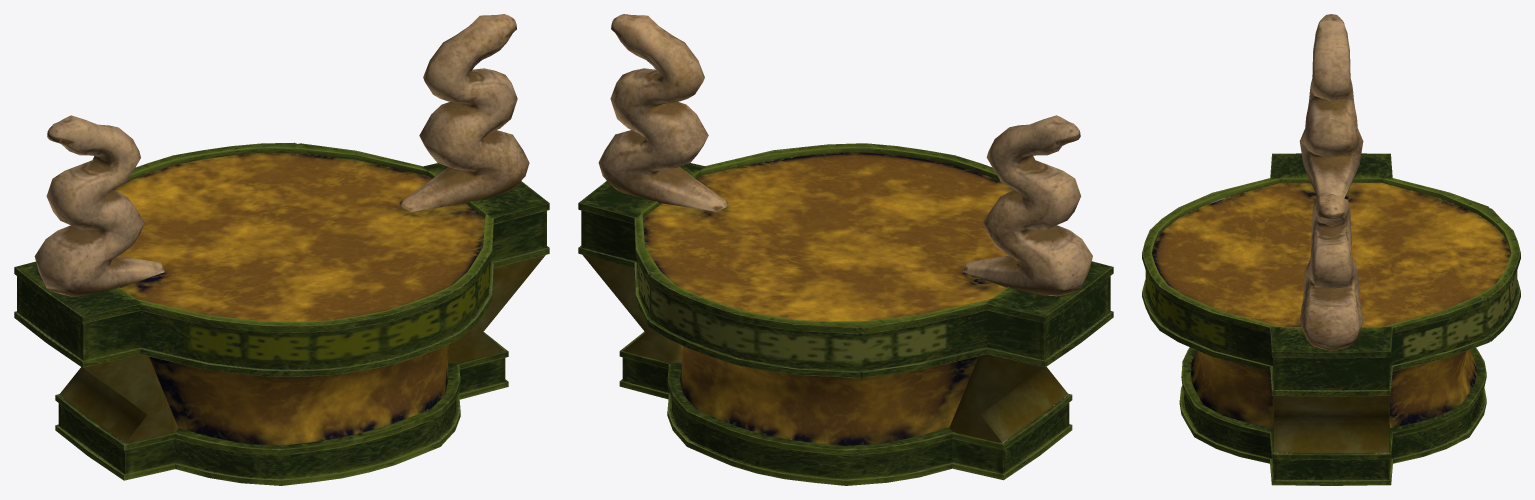
File: high-serpents-altar-of-sacrifice.glb
The picture shows the model from 3 angles, left to right: view 1: azimuth 30°, elevation 25°; view 2: azimuth 150°, elevation 25°; view 3: azimuth 270°, elevation 25°; orthographic projection. The views are drawn at different scales.
Visible parts, largest first — view 1: InfillTop_LP, BaseTop_LP, Snake_LP, BaseBot_LP, InfillMid_LP, BaseMid2_LP, BaseMid1_LP; view 2: InfillTop_LP, BaseTop_LP, Snake_LP, BaseBot_LP, InfillMid_LP, BaseMid2_LP, BaseMid1_LP; view 3: InfillTop_LP, BaseTop_LP, Snake_LP, BaseBot_LP, InfillMid_LP, BaseMid1_LP.
Part boxes in pixels (box(x1,y1,x2,y2)): InfillTop_LP: box(114, 152, 485, 321); BaseTop_LP: box(14, 142, 549, 376); Snake_LP: box(34, 14, 529, 296); BaseBot_LP: box(55, 332, 508, 485); InfillMid_LP: box(149, 344, 448, 445); BaseMid2_LP: box(58, 354, 178, 443); BaseMid1_LP: box(448, 255, 545, 363); InfillTop_LP: box(643, 152, 1013, 321); BaseTop_LP: box(578, 143, 1113, 378); Snake_LP: box(598, 14, 1092, 296); BaseBot_LP: box(619, 331, 1072, 485); InfillMid_LP: box(680, 344, 978, 445); BaseMid2_LP: box(949, 354, 1068, 443); BaseMid1_LP: box(582, 254, 681, 363); InfillTop_LP: box(1152, 182, 1510, 326); BaseTop_LP: box(1142, 153, 1520, 396); Snake_LP: box(1299, 14, 1363, 351); BaseBot_LP: box(1179, 347, 1486, 485); InfillMid_LP: box(1191, 350, 1476, 428); BaseMid1_LP: box(1273, 396, 1389, 453).
Bounding box in the file's own units: 2 × 1.35 × 1.57.
Materials: 1 (1 with a texture image).
